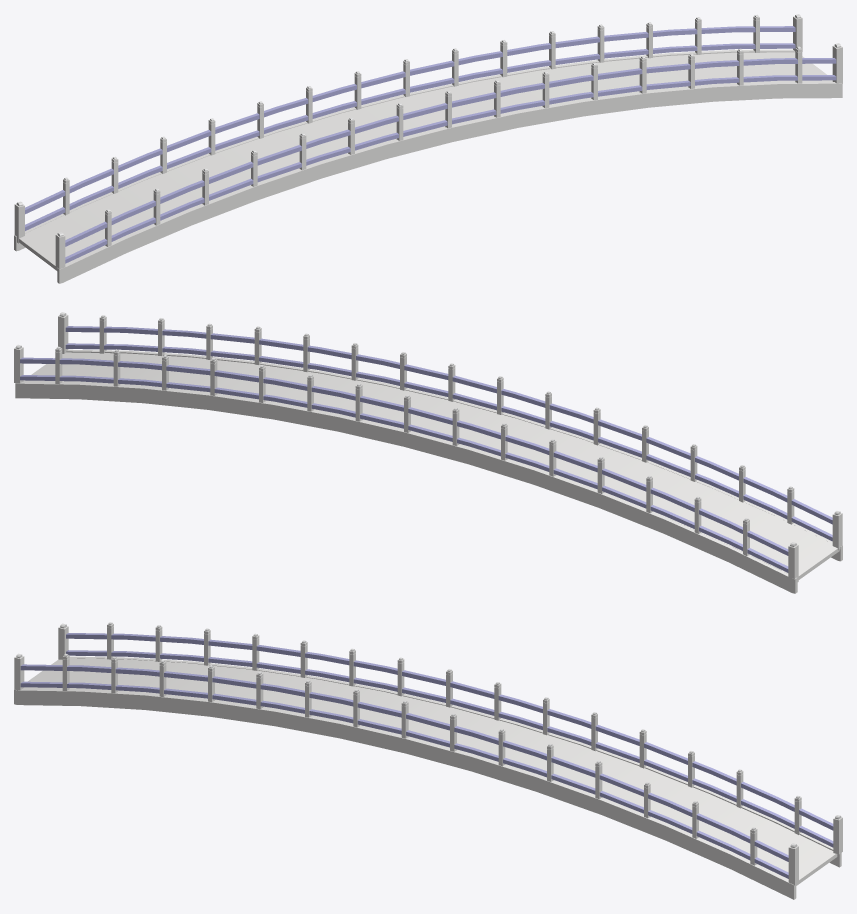
Rendered from bridge_1.66ee0a9d.glb.
The picture shows the model from 3 angles, top to bottom: view 1: azimuth 30°, elevation 25°; view 2: azimuth 150°, elevation 25°; view 3: azimuth 330°, elevation 25°; orthographic projection.
Parts seen in each view (by area): view 1: Component#9_001; view 2: Component#9_001; view 3: Component#9_001.
Boxes of the visible parts, box(x1,y1,x2,y2) form: Component#9_001: box(14, 14, 842, 283); Component#9_001: box(14, 312, 842, 593); Component#9_001: box(14, 622, 842, 899).
Size of the model in its own units: 26.27 by 3.17 by 3.02.
